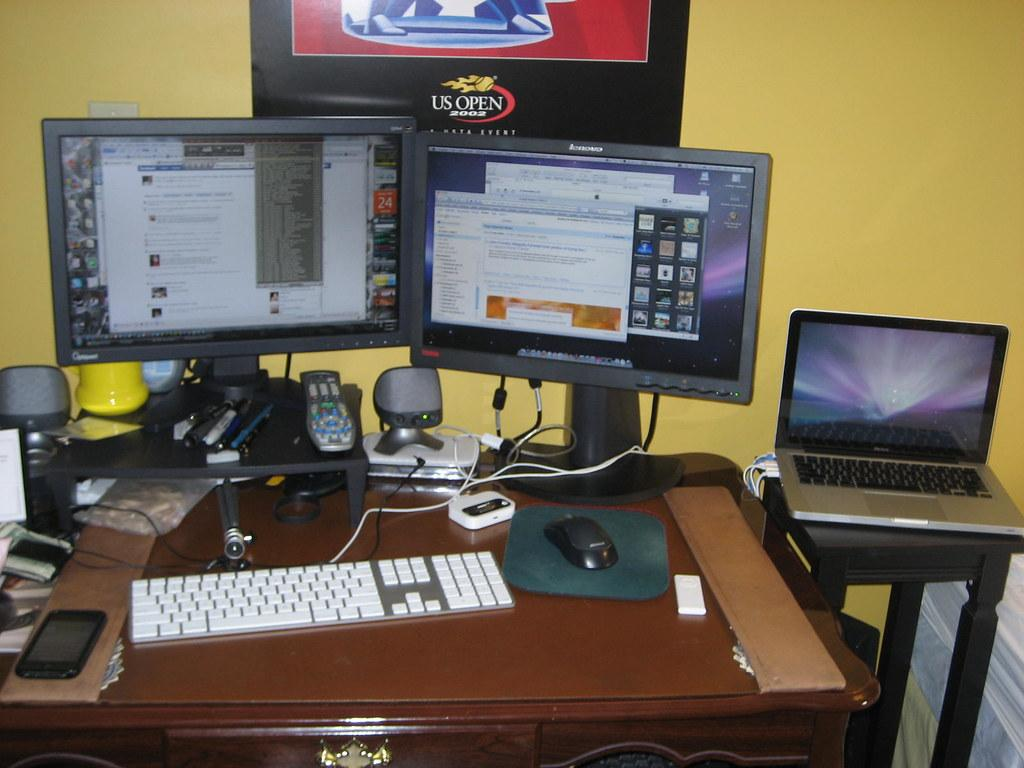computer: (410, 129, 773, 506), (41, 115, 417, 431), (774, 308, 1024, 539)
